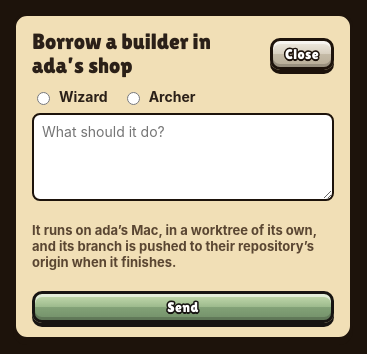
Test case: clicking a house in a visited village offers the builders lent to you there, and sends a request
Check: the heading "Borrow a builder in ada’s shop" is shown, box [32,29,211,78]
Check: the button "Send" is disabled, box [32,291,334,323]
Click the radio button labelled "Archer": (133, 98) [127,92,140,105]
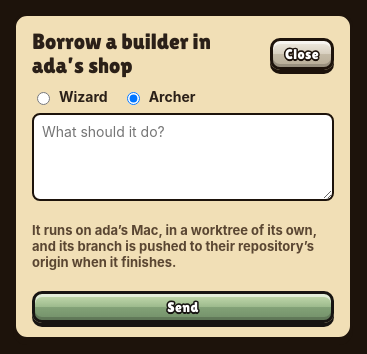
In the text box labelled "What should it do?": (183, 157) [32,113,334,201], type "Add a CSV export"
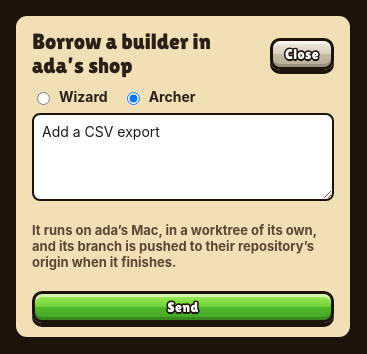
Click the button "Send": (183, 307) [32,291,334,323]
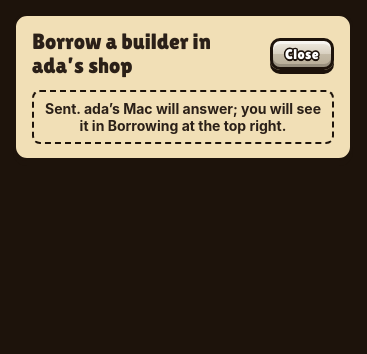
Check: the text "Sent. ada’s Mac will answer; you will see it in Borrowing at the top right." is shown, box [32,90,334,144]
